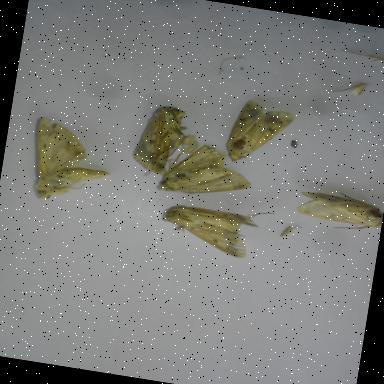abw: (20, 114, 120, 213), (154, 192, 279, 264), (154, 134, 260, 208), (217, 92, 301, 176), (125, 98, 198, 186), (292, 181, 384, 235)
